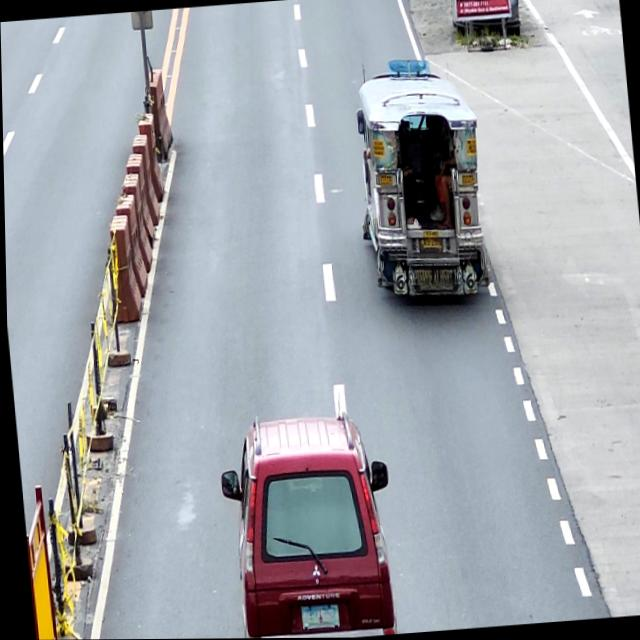Car: (212, 405, 399, 639)
Jeep: (350, 66, 491, 305)
License-Plate: (299, 605, 337, 629), (417, 237, 442, 255)
